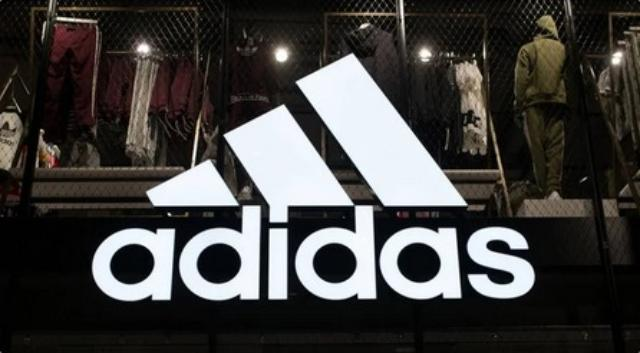Adidas: (80, 36, 550, 306)
